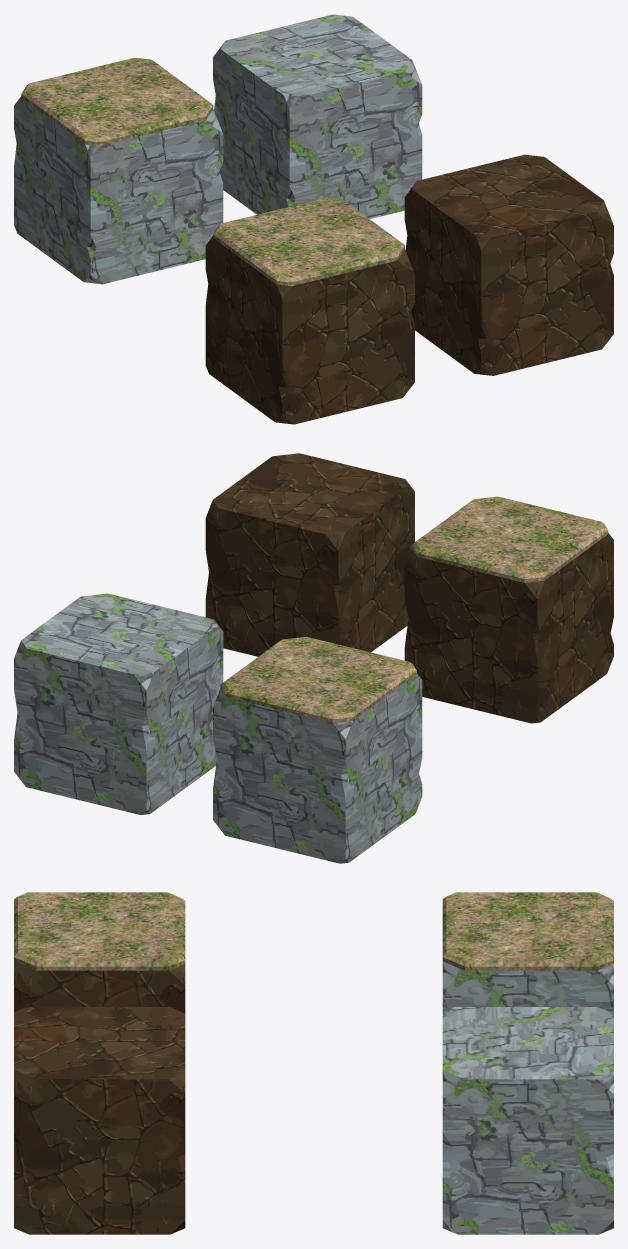
File: cliffscubetiles1.glb
The picture shows the model from 3 angles, top to bottom: view 1: azimuth 30°, elevation 25°; view 2: azimuth 150°, elevation 25°; view 3: azimuth 270°, elevation 25°; orthographic projection. The views are drawn at different scales.
Parts seen in each view (by area): view 1: Cube.002, Cube, Cube.003, Cube.001; view 2: Cube, Cube.002, Cube.001, Cube.003; view 3: Cube.001, Cube.003, Cube, Cube.002.
Boxes of the visible parts, bbox=[...] form: Cube.002: bbox=[205, 198, 414, 424]; Cube: bbox=[14, 57, 223, 284]; Cube.003: bbox=[404, 154, 613, 375]; Cube.001: bbox=[213, 14, 422, 218]; Cube: bbox=[213, 636, 422, 863]; Cube.002: bbox=[404, 496, 613, 723]; Cube.001: bbox=[14, 593, 223, 814]; Cube.003: bbox=[205, 453, 414, 656]; Cube.001: bbox=[442, 1007, 613, 1234]; Cube.003: bbox=[14, 1007, 185, 1234]; Cube: bbox=[442, 892, 613, 1013]; Cube.002: bbox=[14, 892, 185, 1013].
Bounding box in the file's own units: 5 × 2.1 × 7.
3 materials, 3 textured.
